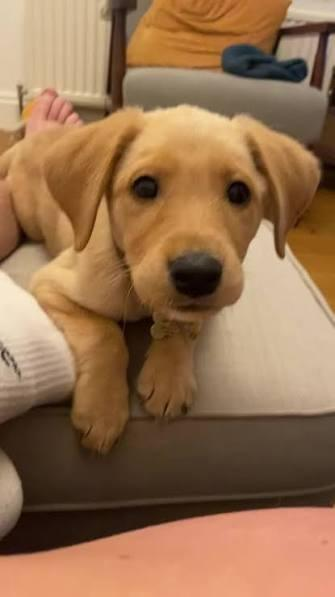puppy-dog: (1, 105, 323, 457)
